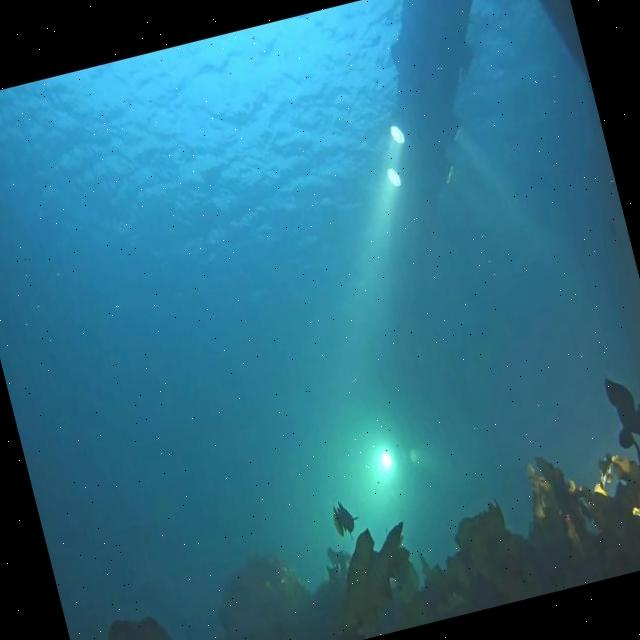fish: (328, 497, 361, 540)
